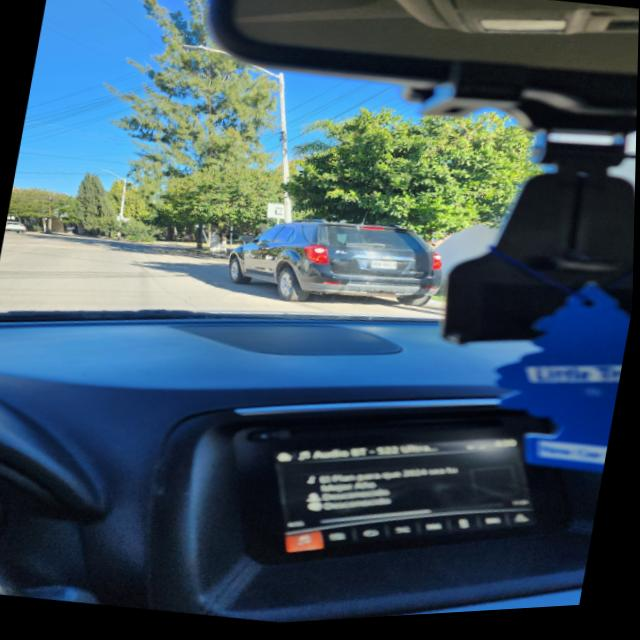Auto: (220, 204, 450, 331), (6, 218, 29, 236)
